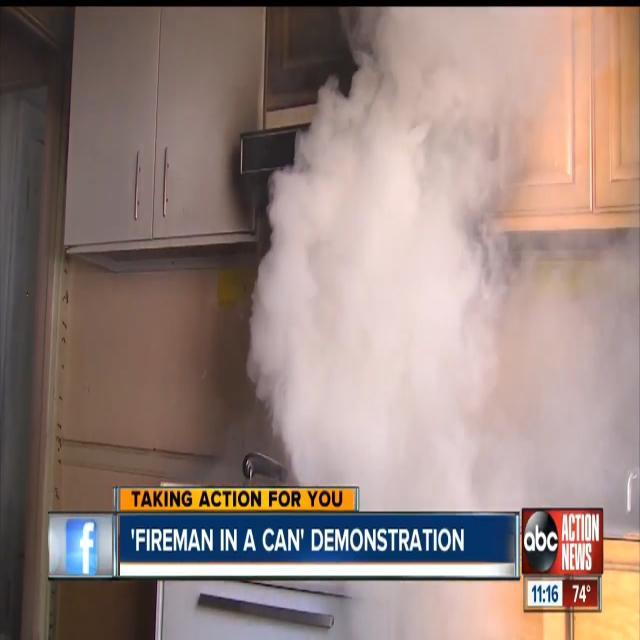Smoke: (255, 1, 550, 484)
